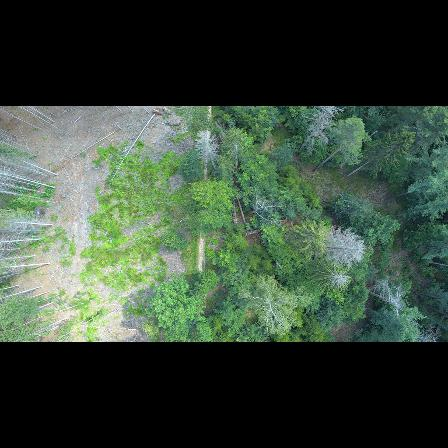Dead: (298, 106, 350, 154), (317, 228, 369, 266), (365, 279, 409, 316), (191, 126, 220, 169)
Sick: (316, 267, 355, 292)
